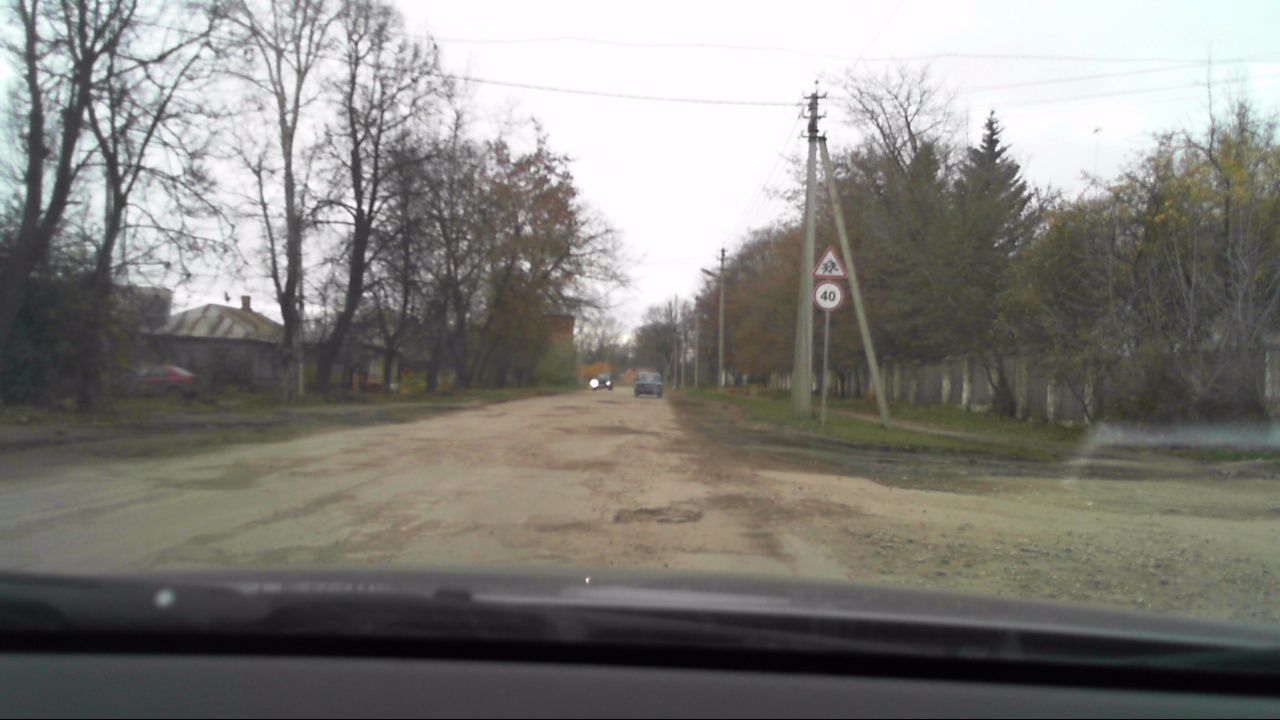speed_warning_40: (812, 278, 843, 311)
